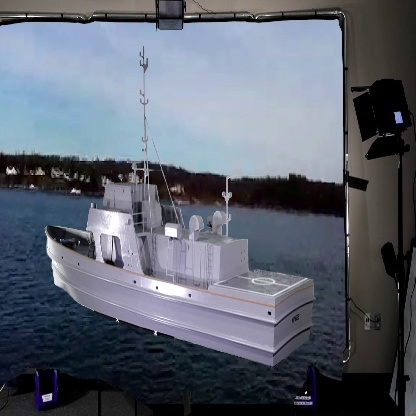YP689: (43, 44, 314, 373)
